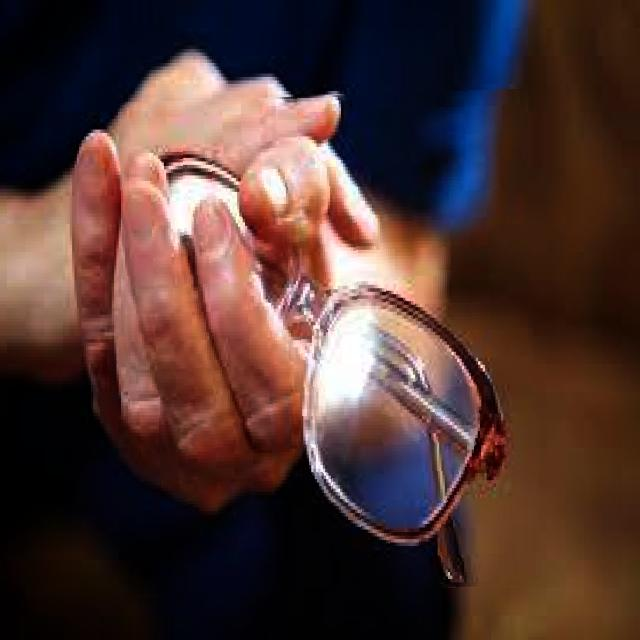glasses: (122, 92, 537, 596)
